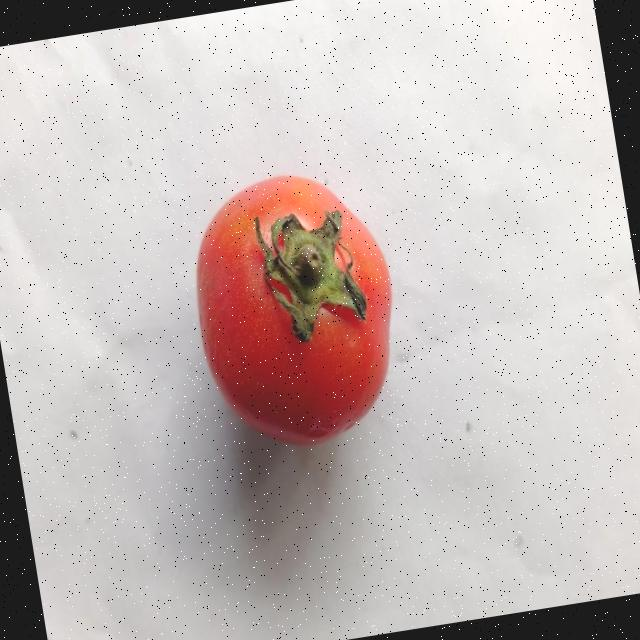Ripe: (174, 154, 420, 458)
